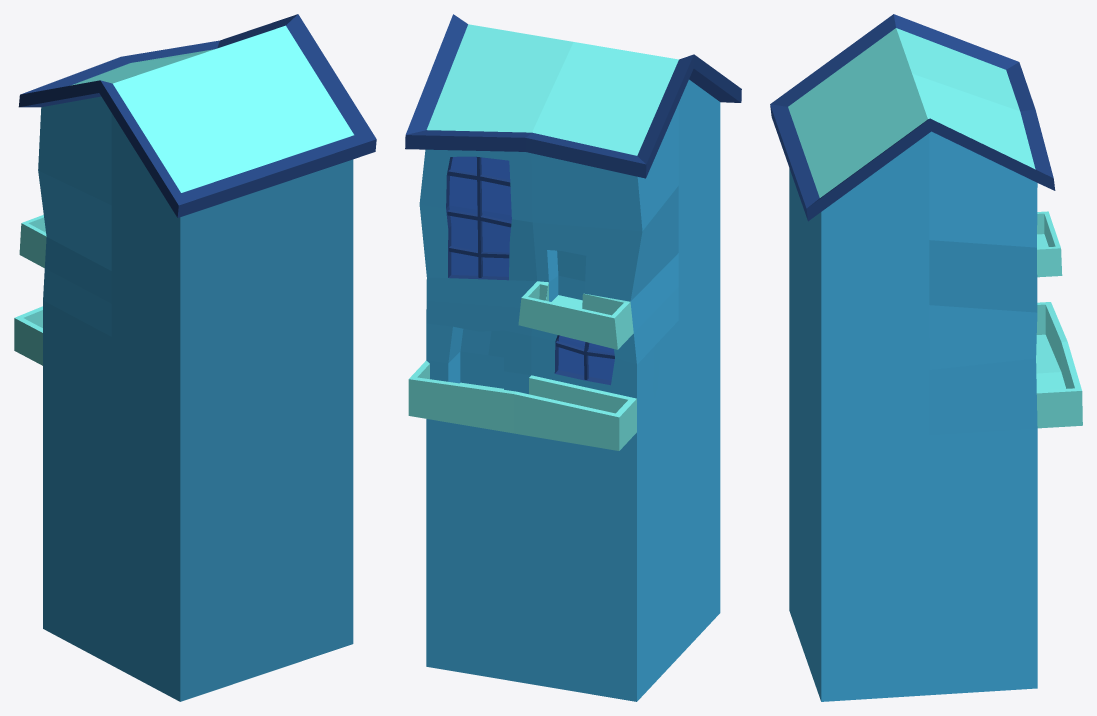
File: edificio2.fbx
3 renders of one model, left to right at view 1: azimuth 30°, elevation 25°; view 2: azimuth 150°, elevation 25°; view 3: azimuth 270°, elevation 25°, orthographic. The views are drawn at different scales.
Visible parts, largest first — view 1: edificio2; view 2: edificio2; view 3: edificio2.
Part boxes in pixels (x1=…): edificio2: x1=14, y1=14, x2=376, y2=701; edificio2: x1=405, y1=14, x2=741, y2=701; edificio2: x1=770, y1=14, x2=1082, y2=701.
Size of the model in its own units: 3808 by 8594 by 4176.
